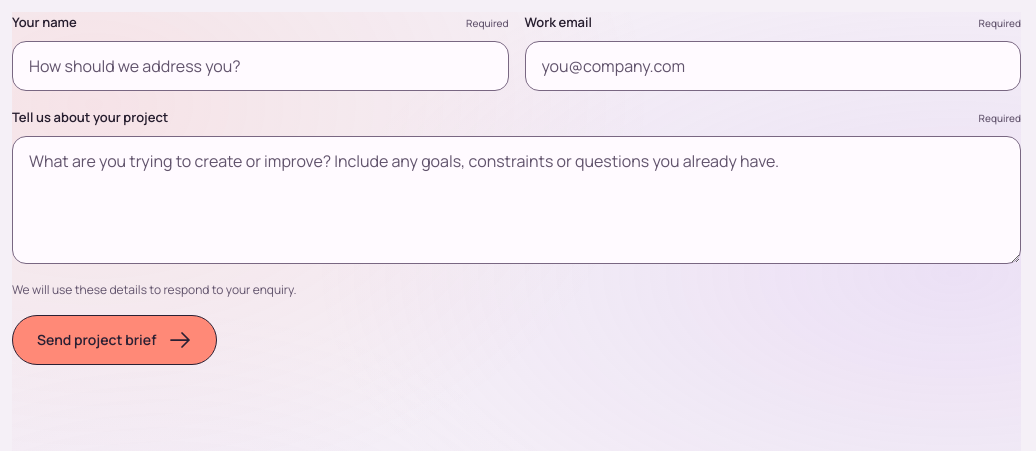
Test case: short Home enquiry › preserves values after a transport failure and allows a retry
The image size is (1036, 451).
Type "  Alex Morgan  " into the field labelled "Your name Required" at (260, 66), box top-left (12, 41), bottom-right (508, 91)
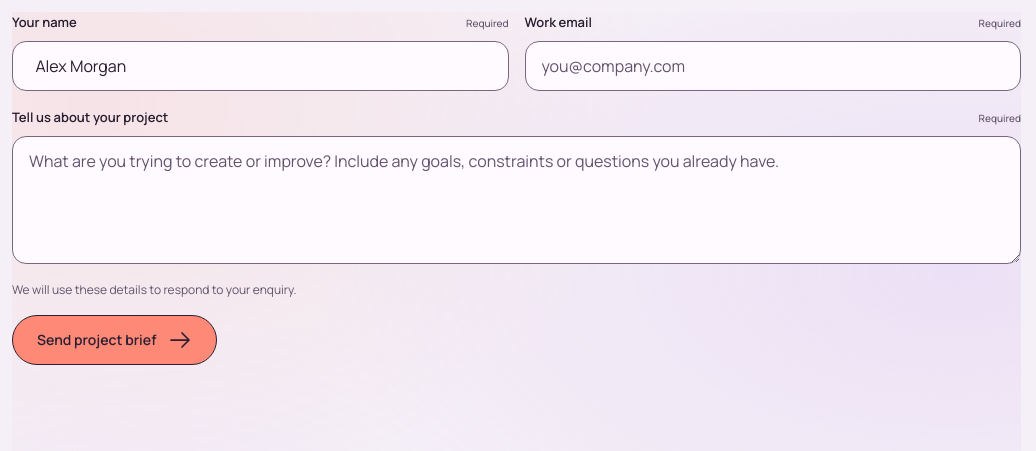
Type "alex@example.com" into the field labelled "Work email Required" at (773, 66), box top-left (524, 41), bottom-right (1021, 91)
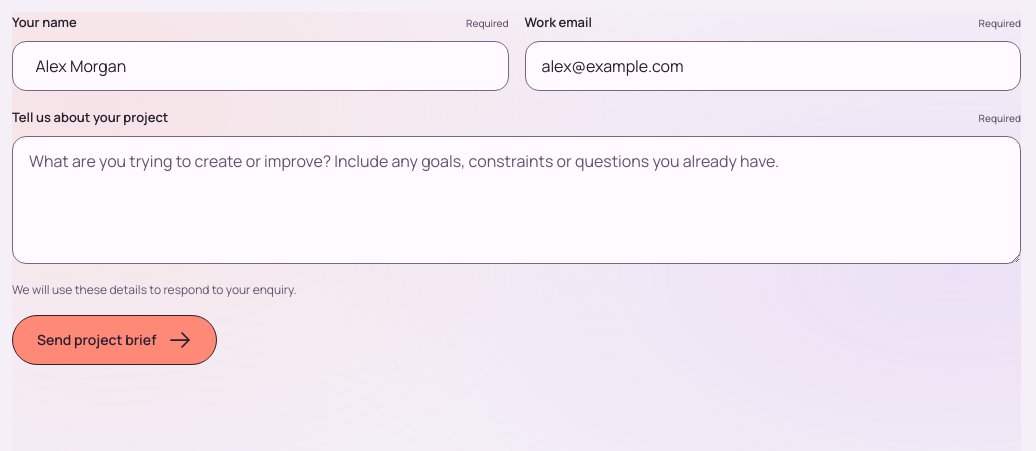
Replace the text in the text box labelled "Tell us about your project Required" with "We need a customer portal to replace our spreadsheet workflow." at (516, 200), box top-left (12, 136), bottom-right (1021, 264)
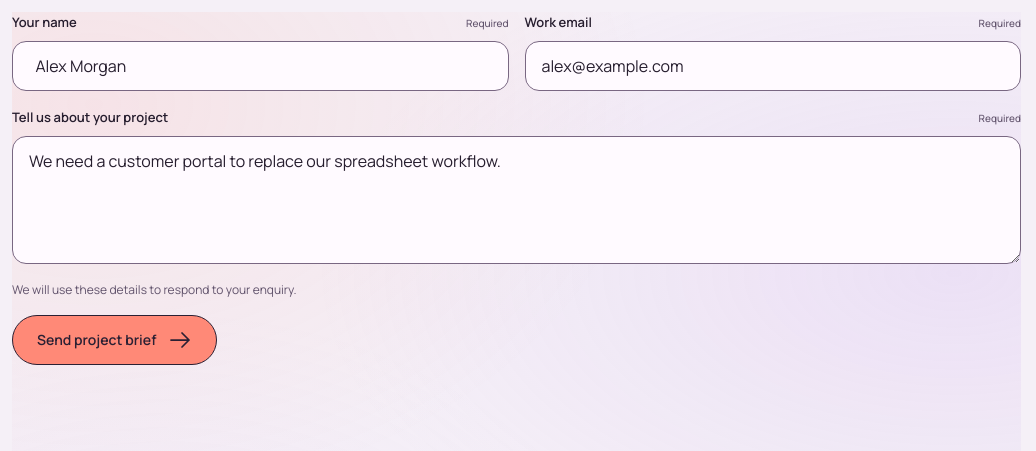
Click the button "Send project brief" at (115, 340), box top-left (12, 315), bottom-right (217, 365)
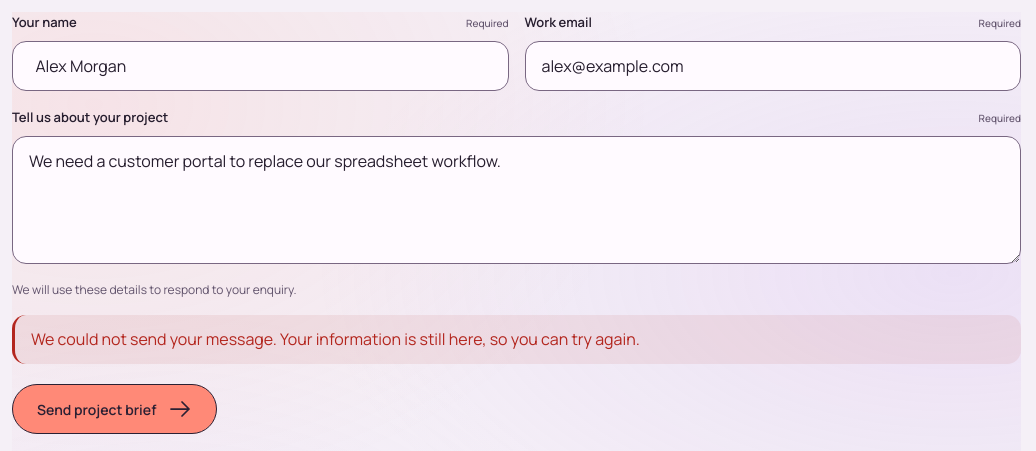
Expected: the message shows "We could not send your message. Your information is still here, so you can try again.", top-left (31, 328), bottom-right (640, 350)
Click the button "Send project brief" at (115, 409), box top-left (12, 384), bottom-right (217, 434)
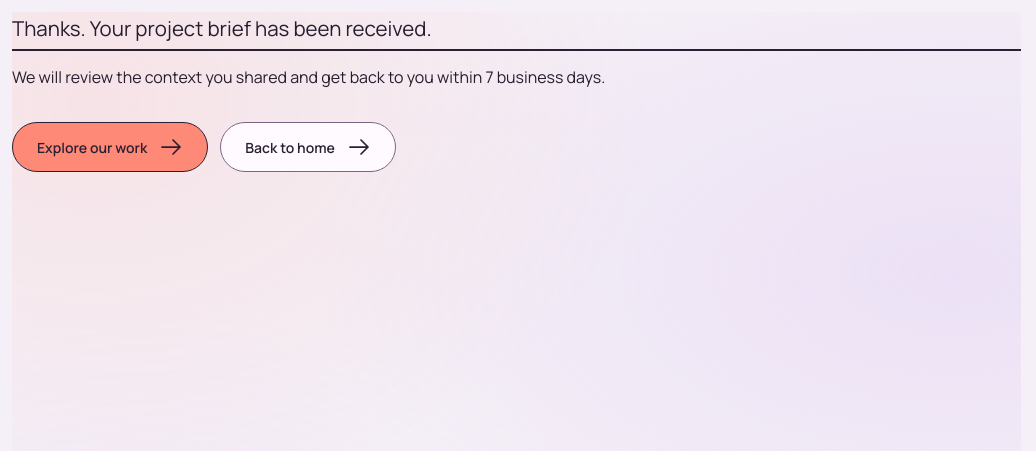
Expected: the heading "Thanks. Your project brief has been received." is shown, top-left (12, 14), bottom-right (432, 42)
